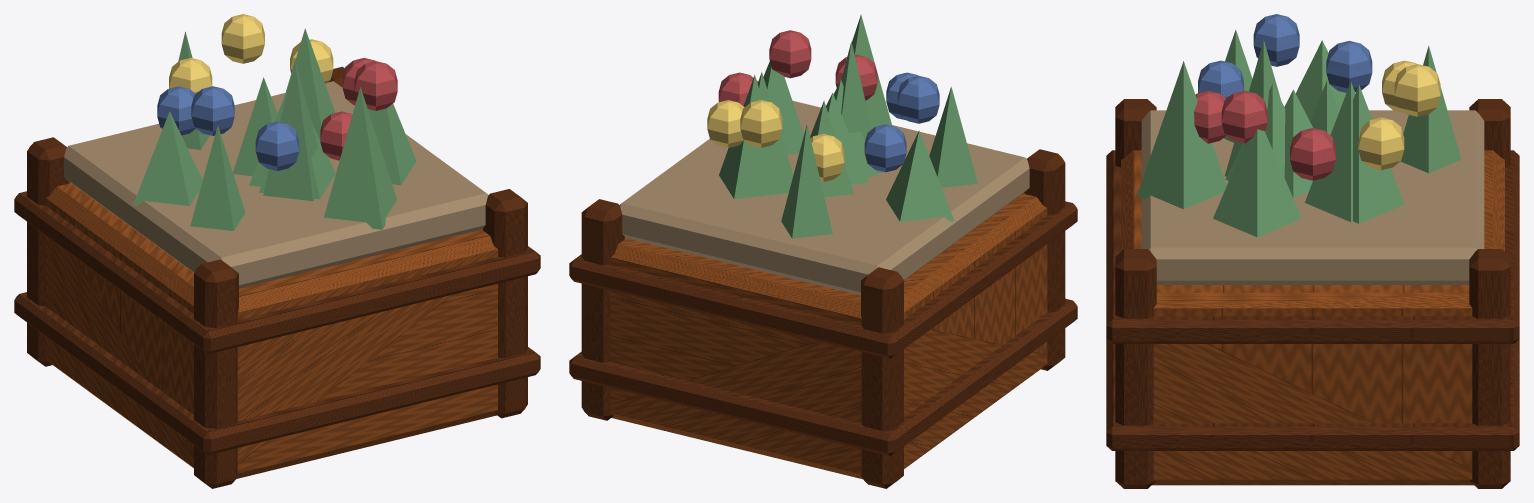
File: fantasy-mmo-city-and-townsfolk-flower-planter-7341677c__32774.glb
3 renders of one model, left to right at view 1: azimuth 30°, elevation 25°; view 2: azimuth 150°, elevation 25°; view 3: azimuth 270°, elevation 25°, orthographic. The views are drawn at different scales.
Parts seen in each view (by area): view 1: flower-planter; view 2: flower-planter; view 3: flower-planter.
Boxes of the visible parts, bbox=[...] form: flower-planter: bbox=[14, 14, 540, 488]; flower-planter: bbox=[569, 14, 1077, 488]; flower-planter: bbox=[1106, 14, 1519, 488].
Bounding box in the file's own units: 1.4 × 1.37 × 1.4.
7 materials, 4 textured.
